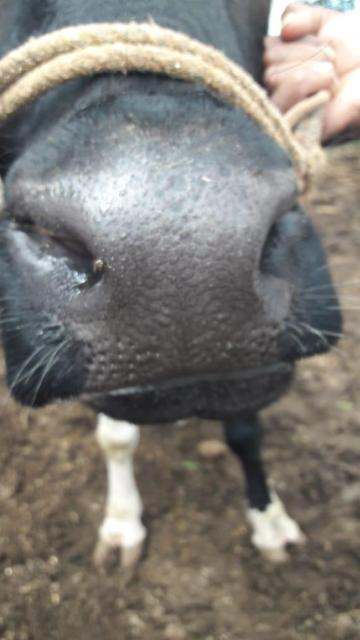Muzzle: (91, 197, 261, 366)
